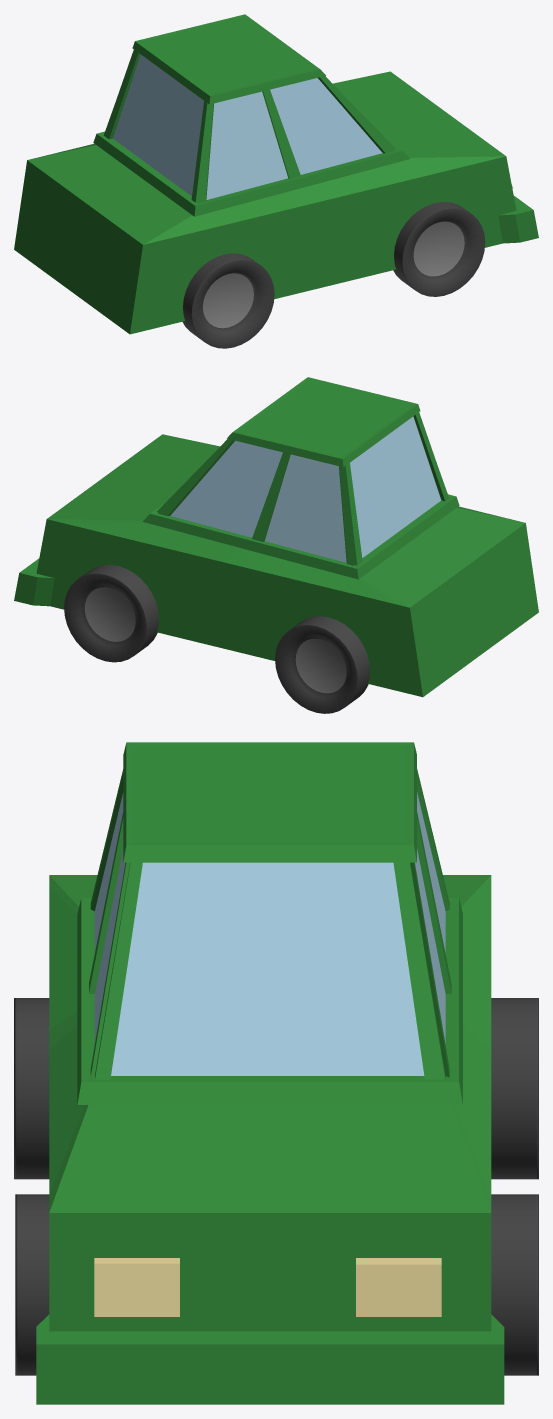
Rendered from car green.fbx.
3 renders of one model, top to bottom at view 1: azimuth 30°, elevation 25°; view 2: azimuth 150°, elevation 25°; view 3: azimuth 270°, elevation 25°, orthographic. The views are drawn at different scales.
Parts seen in each view (by area): view 1: Cube.029, Cylinder.026, Cylinder.027; view 2: Cube.029, Cylinder.024, Cylinder.025; view 3: Cube.029, Cylinder.025, Cylinder.024, Cylinder.026, Cylinder.027.
Part boxes in pixels (x1,y1,x2,y2): Cube.029: (14, 14, 538, 334); Cylinder.026: (182, 253, 274, 348); Cylinder.027: (393, 202, 485, 296); Cube.029: (14, 377, 538, 697); Cylinder.024: (64, 564, 158, 662); Cylinder.025: (275, 616, 369, 713); Cube.029: (36, 742, 504, 1404); Cylinder.025: (491, 998, 538, 1179); Cylinder.024: (491, 1194, 538, 1375); Cylinder.026: (14, 998, 49, 1179); Cylinder.027: (15, 1194, 49, 1375).
Size of the model in its own units: 9.83 by 5.28 by 5.78.
